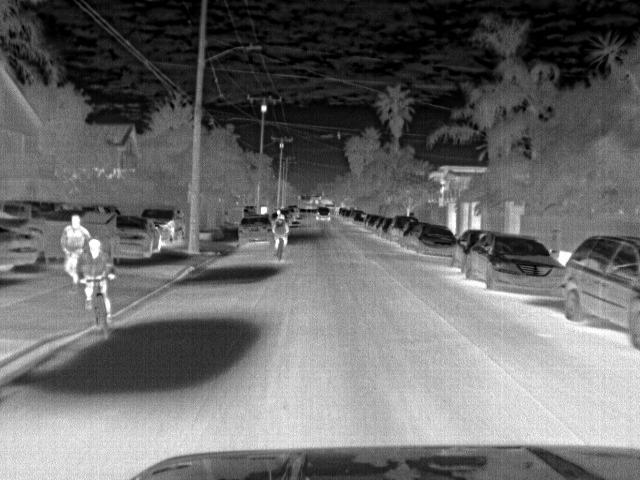car: (563, 236, 640, 348), (462, 230, 565, 294), (101, 214, 162, 262), (2, 226, 39, 274), (140, 205, 187, 240), (415, 224, 458, 258), (450, 229, 486, 269), (237, 216, 273, 248), (385, 216, 418, 241), (316, 207, 334, 222), (367, 214, 381, 230)
person: (79, 238, 117, 324), (62, 214, 94, 288), (272, 212, 289, 252)
